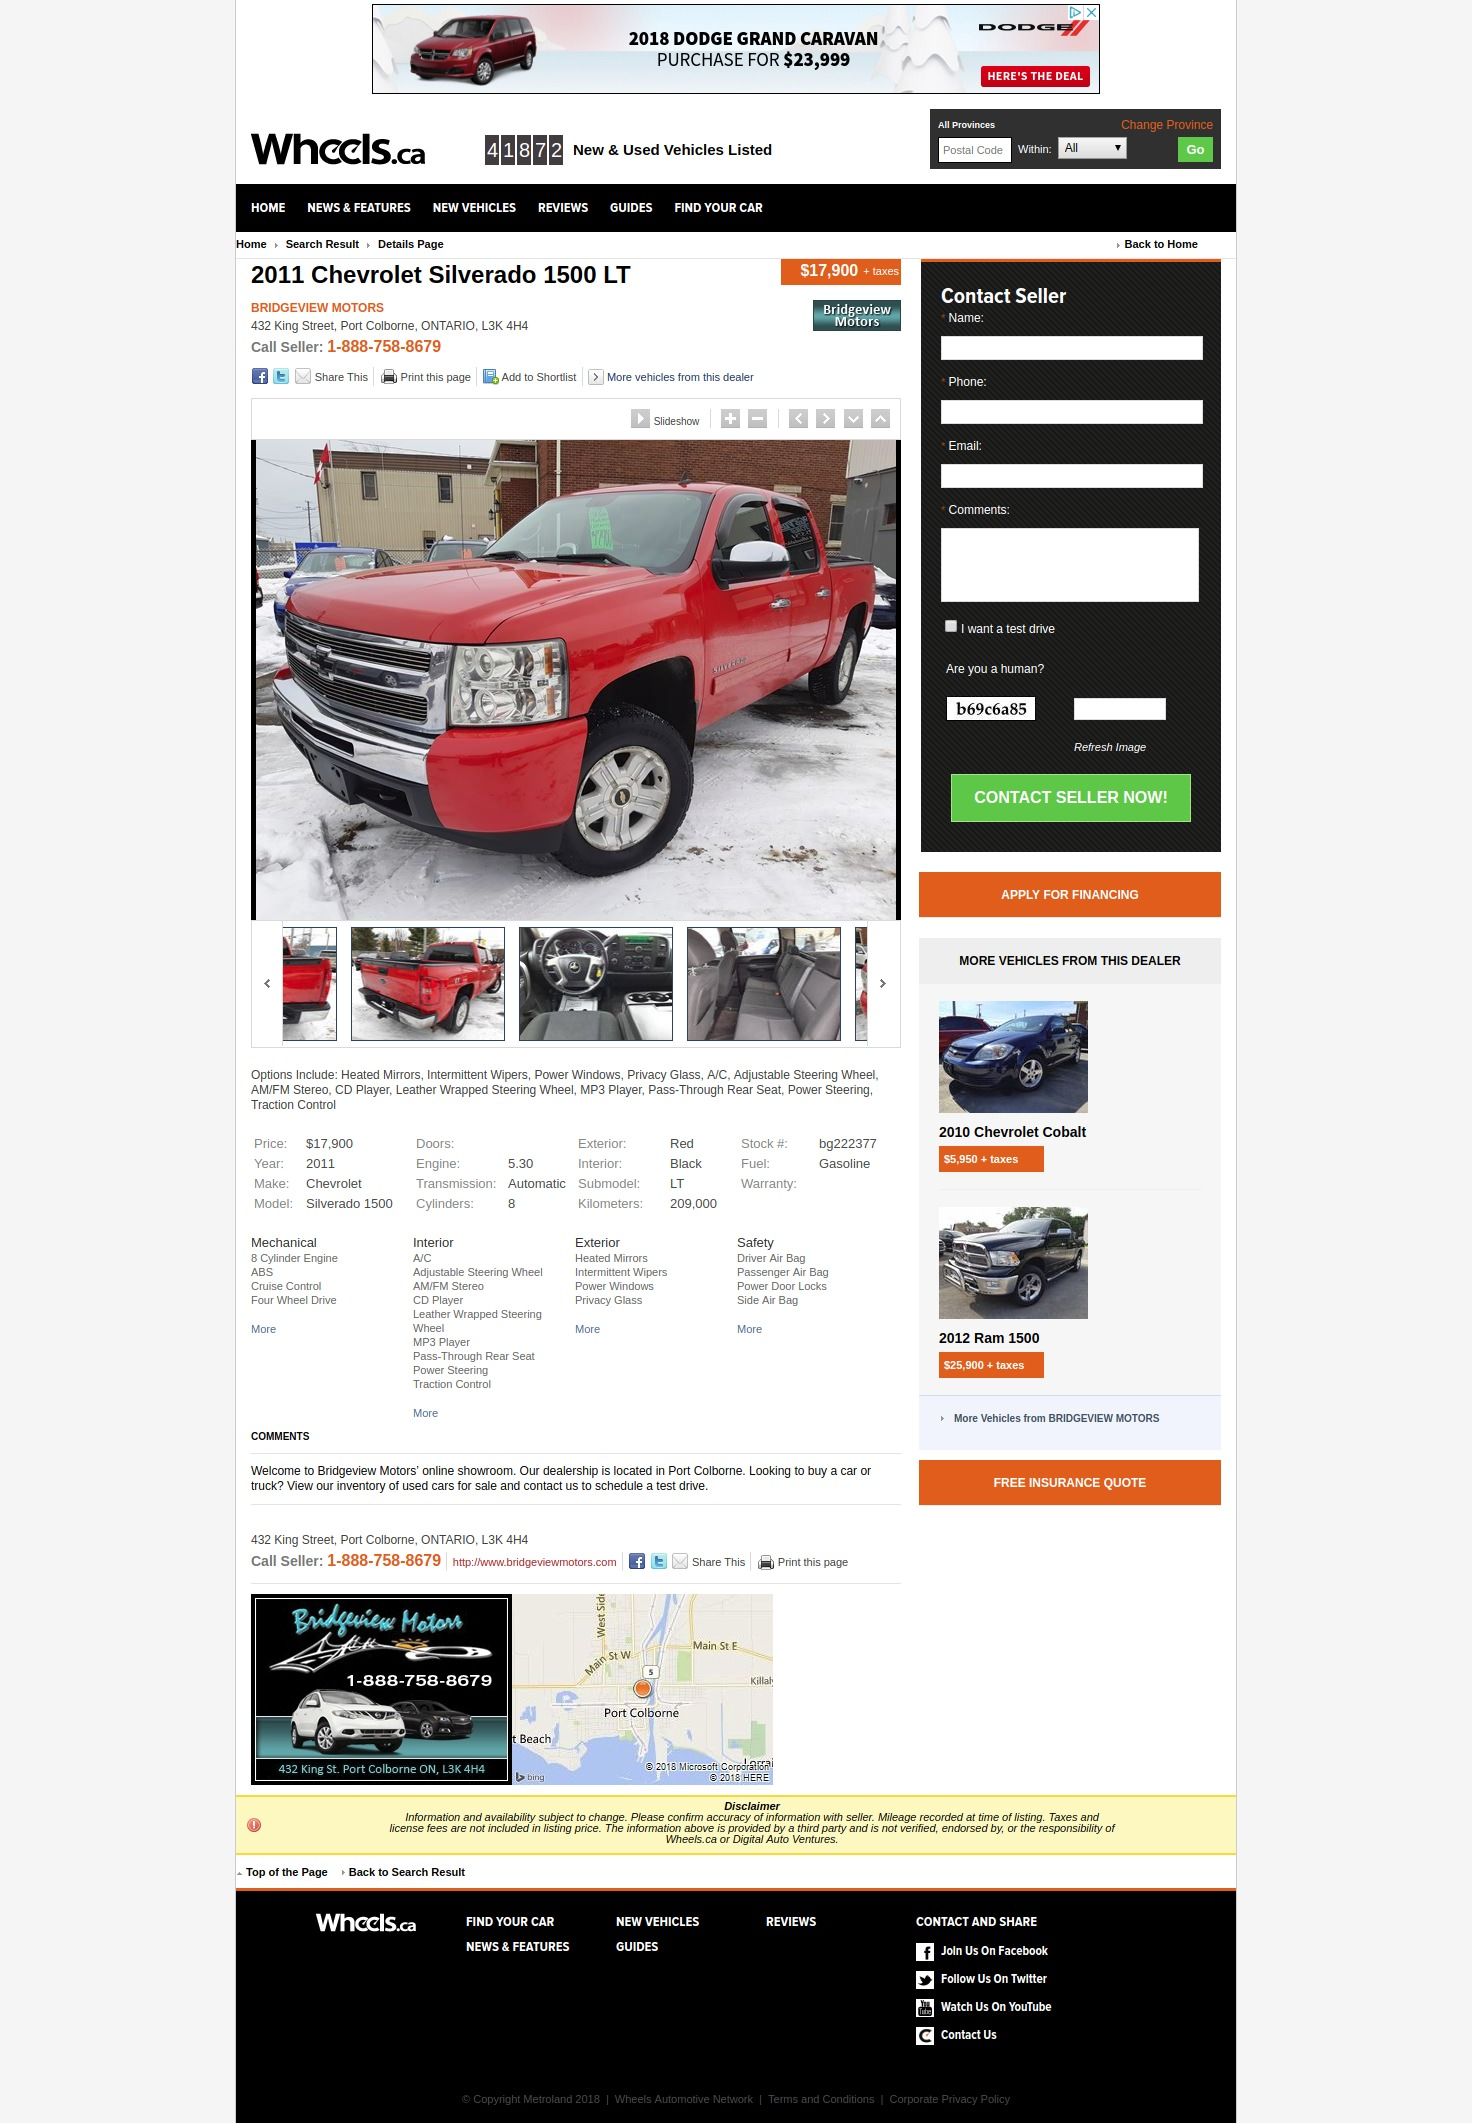car: (880, 978, 888, 991)
